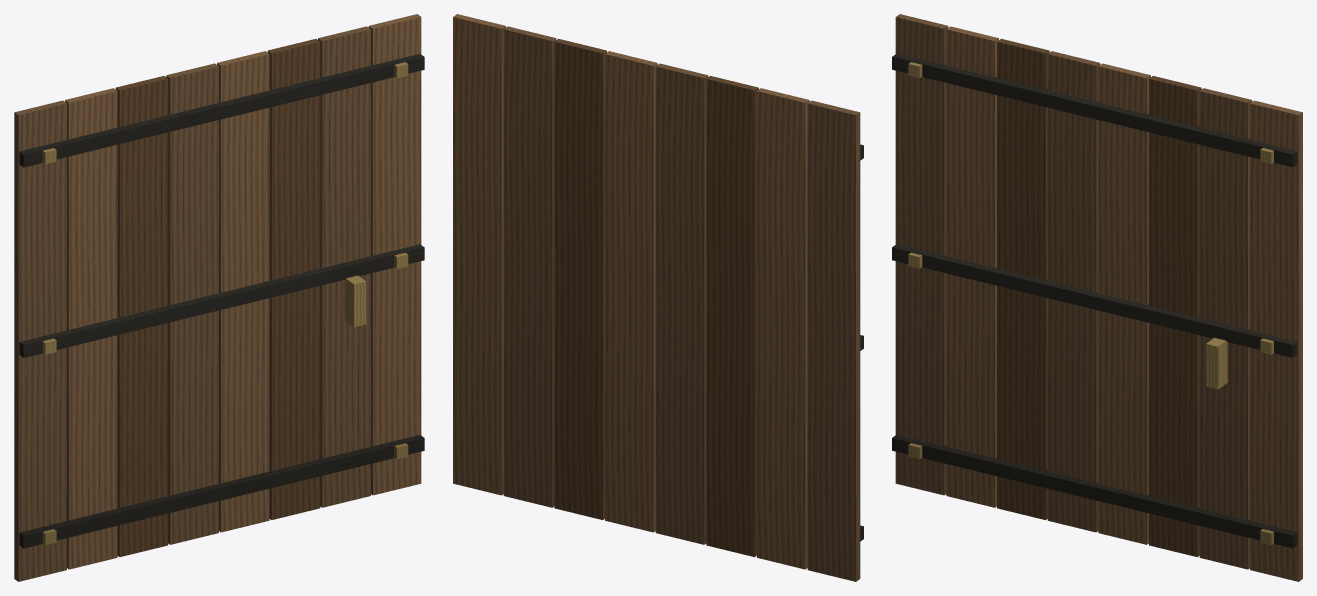
Rendered from door-weathered-v4.glb.
3 views of the same model, side by side, from view 1: azimuth 30°, elevation 25°; view 2: azimuth 150°, elevation 25°; view 3: azimuth 330°, elevation 25° (orthographic).
Parts seen in each view (by area): view 1: door; view 2: door; view 3: door.
Boxes of the visible parts, x1=… form: door: x1=14, y1=14, x2=424, y2=581; door: x1=453, y1=14, x2=863, y2=581; door: x1=892, y1=14, x2=1302, y2=581.
Bounding box in the file's own units: 3.94 × 4.36 × 0.285.
1 material, 1 textured.
